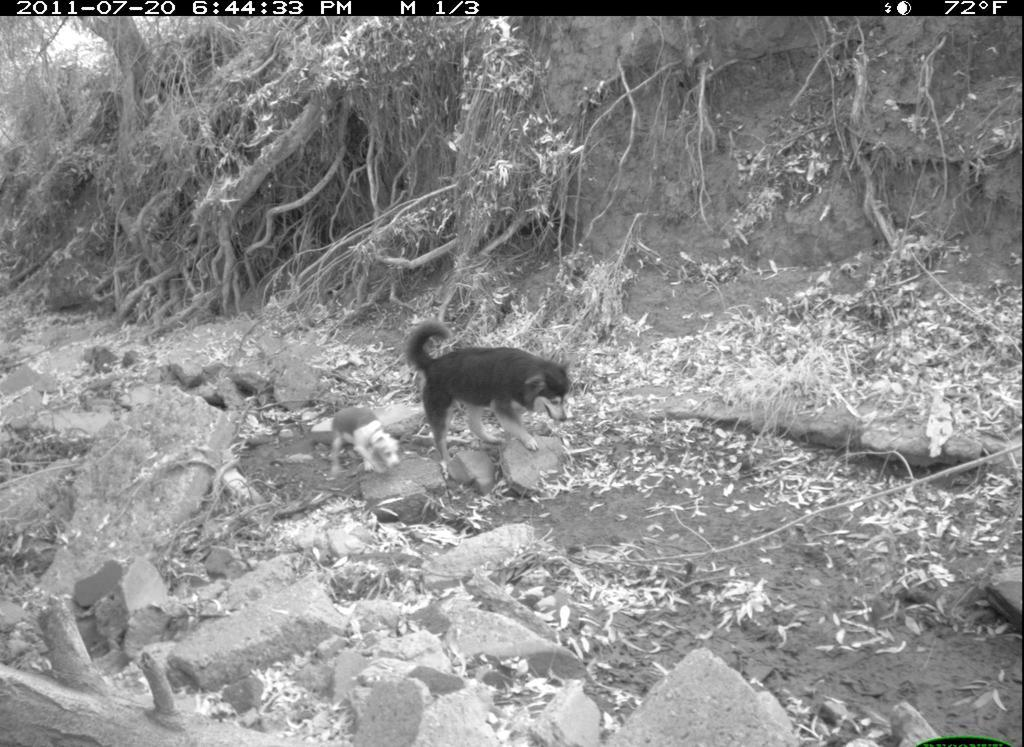dog: (399, 313, 575, 466), (327, 404, 403, 481)
